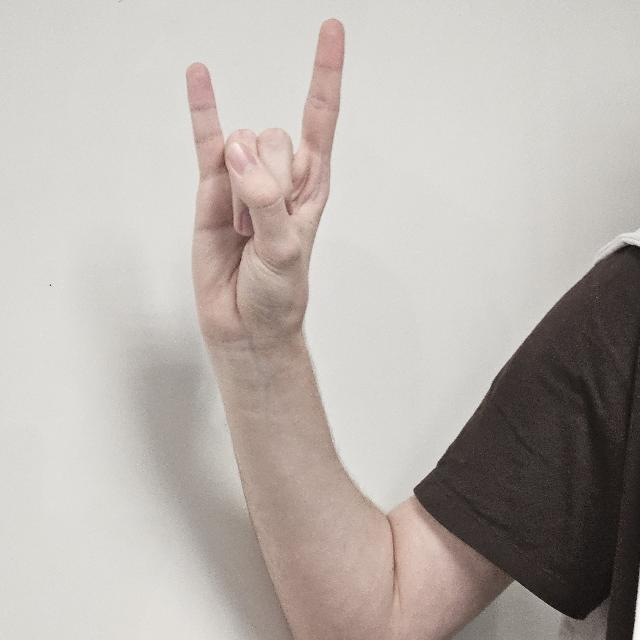L: (184, 18, 346, 366)
